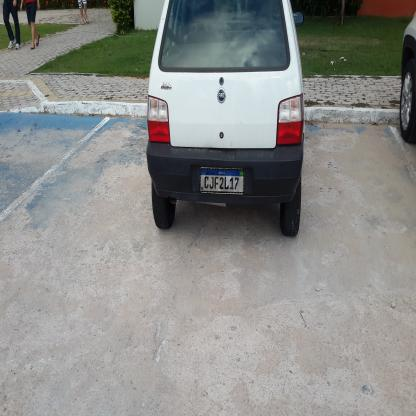PlacaM: (200, 168, 244, 194)
